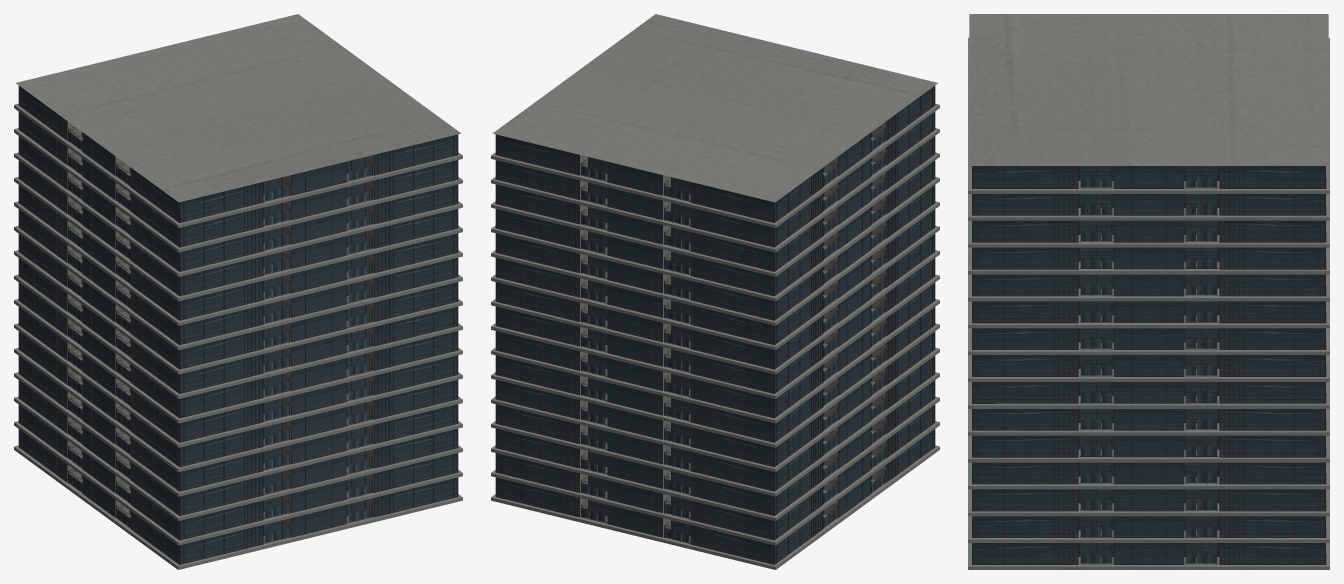
The model's file is highrise_copy.fbx.
3 renders of one model, left to right at view 1: azimuth 30°, elevation 25°; view 2: azimuth 150°, elevation 25°; view 3: azimuth 270°, elevation 25°, orthographic. The views are drawn at different scales.
Parts seen in each view (by area): view 1: Building; view 2: Building; view 3: Building.
Part boxes in pixels (x1=…): Building: x1=14, y1=14, x2=462, y2=569; Building: x1=491, y1=14, x2=939, y2=569; Building: x1=968, y1=14, x2=1329, y2=569.
Bounding box in the file's own units: 192 × 236 × 192.
